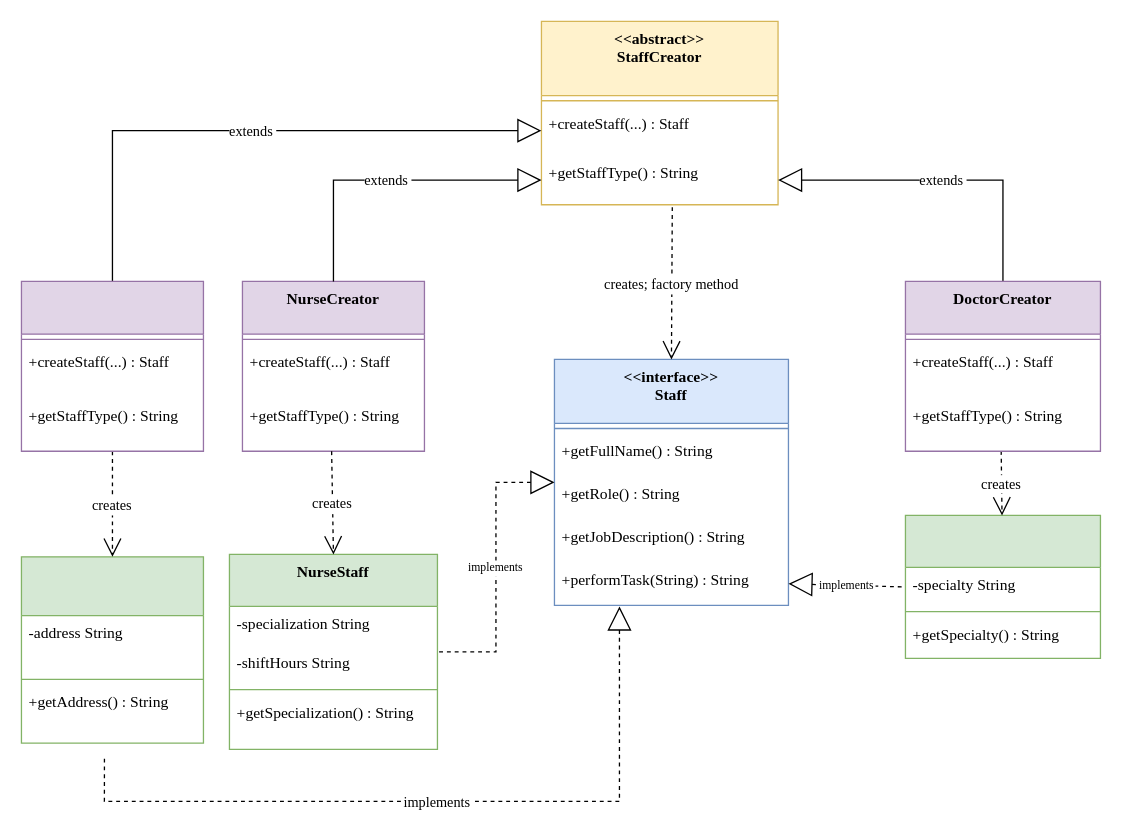
Some shapes in this 1122 by 833 pixel diagram are drawn without their labels. Each missing label, with the box of its shape:
AdminCreator: (20, 280, 203, 451)
AdminStaff: (20, 555, 203, 743)
DoctorStaff: (904, 514, 1100, 658)
